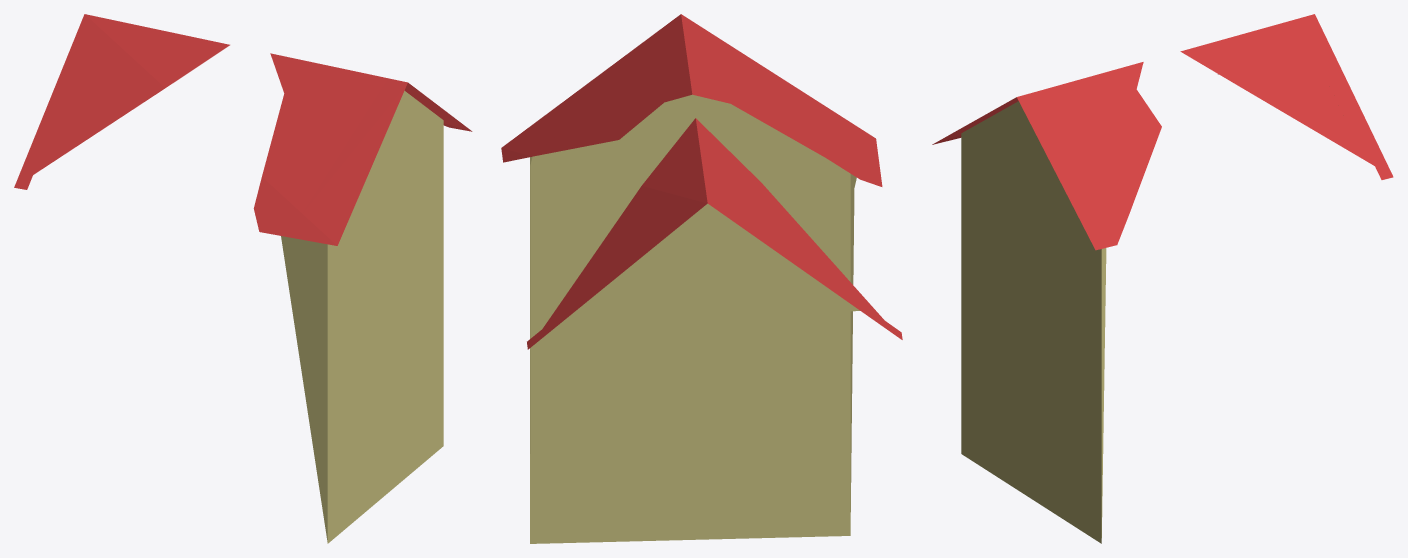
3 views of the same model, side by side, from view 1: azimuth 30°, elevation 25°; view 2: azimuth 150°, elevation 25°; view 3: azimuth 270°, elevation 25° (orthographic). The views are drawn at different scales.
Size of the model in its own units: 15.45 by 16.03 by 15.65.
